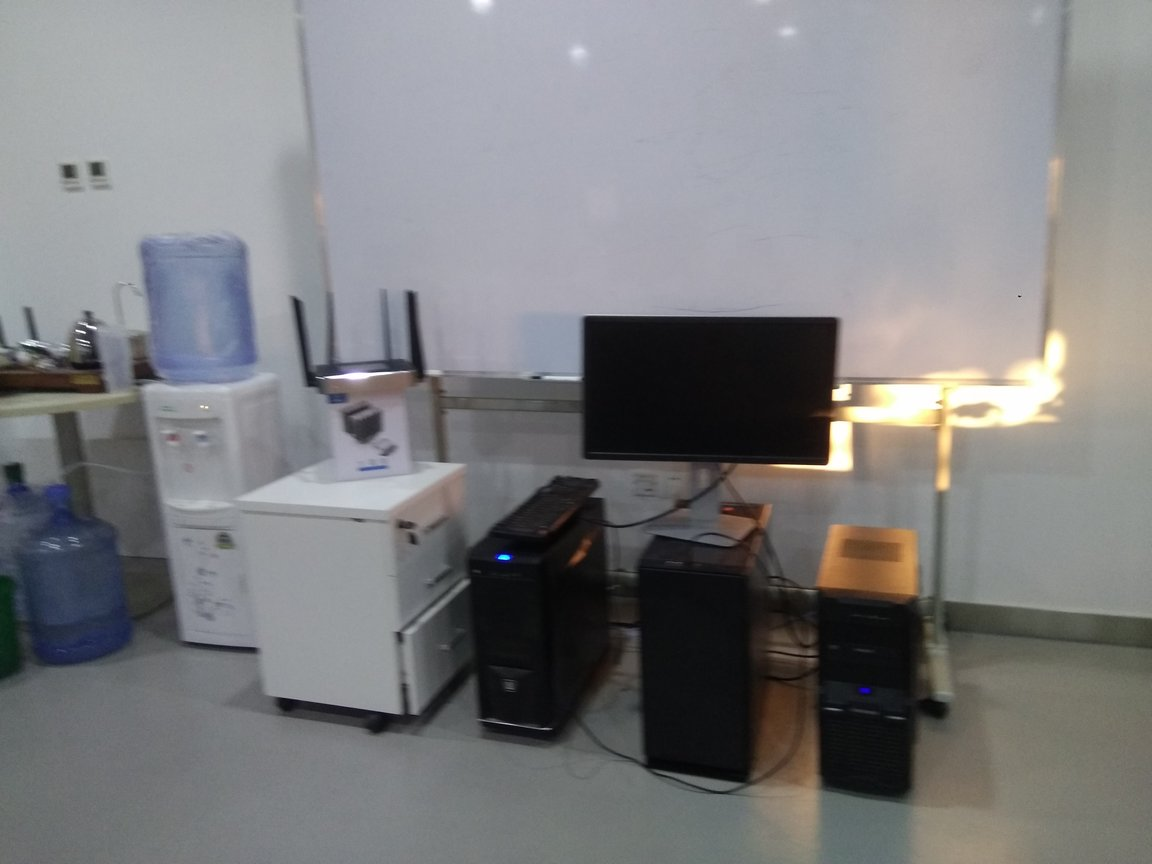computer: (636, 499, 766, 794), (469, 495, 614, 753), (810, 524, 930, 805)
drawer chest: (238, 457, 471, 740)
monitor: (583, 309, 840, 550)
scuttlebutt: (24, 485, 133, 668), (135, 235, 263, 378), (2, 459, 66, 626)
water dispenser: (134, 370, 291, 648)
